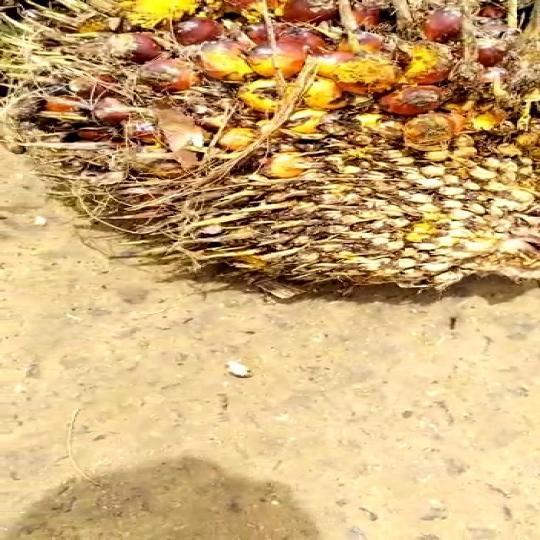masak: (0, 0, 540, 309)
